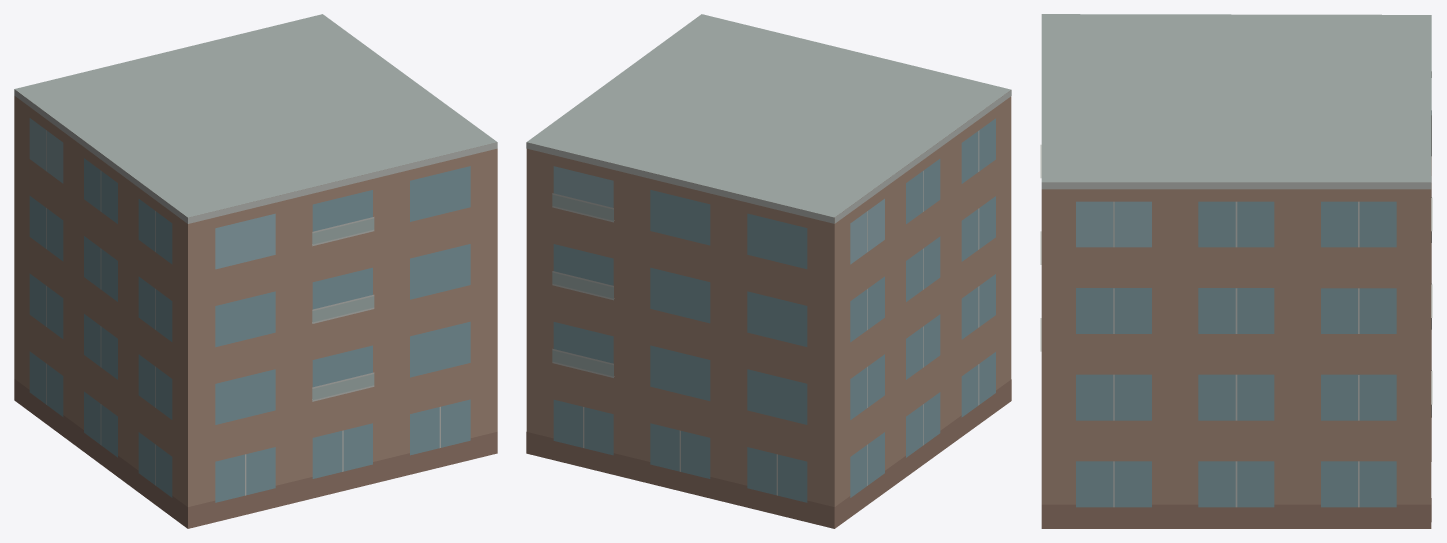
File: survey-upis-33018800.glb
3 views of the same model, side by side, from view 1: azimuth 30°, elevation 25°; view 2: azimuth 150°, elevation 25°; view 3: azimuth 270°, elevation 25° (orthographic). The views are drawn at different scales.
Visible parts, largest first — view 1: survey-upis-33018800.tmp; view 2: survey-upis-33018800.tmp; view 3: survey-upis-33018800.tmp.
Part boxes in pixels (bbox=[...]): survey-upis-33018800.tmp: bbox=[14, 14, 497, 528]; survey-upis-33018800.tmp: bbox=[526, 14, 1011, 528]; survey-upis-33018800.tmp: bbox=[1040, 14, 1432, 528].
Bounding box in the file's own units: 12.41 × 11.9 × 12.21.
